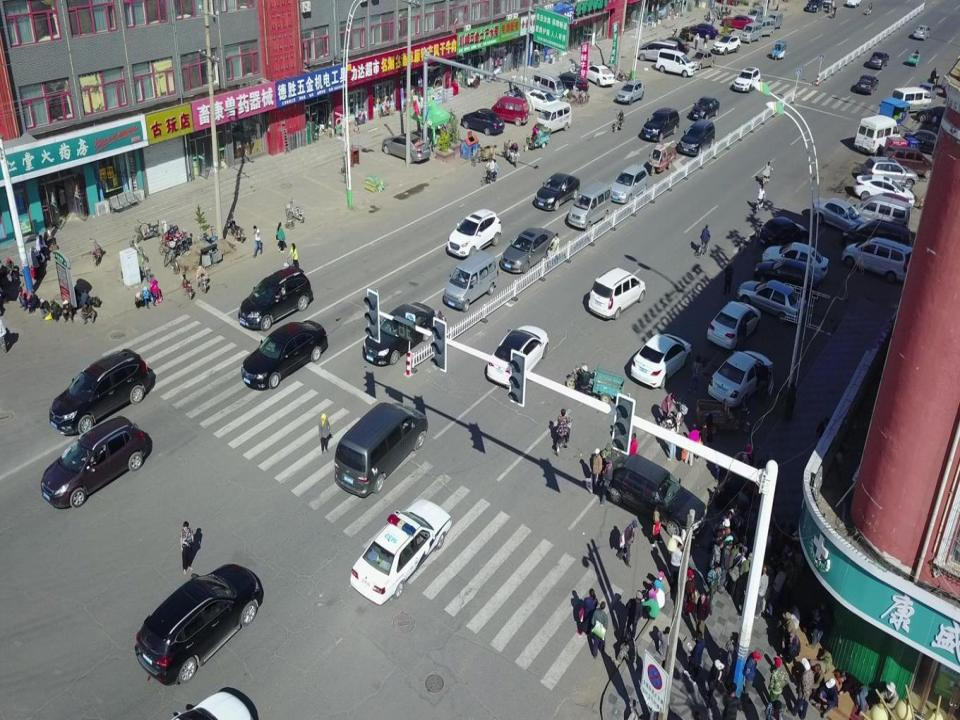car: (133, 561, 265, 688), (348, 496, 452, 607), (39, 413, 154, 511), (48, 347, 157, 436), (334, 400, 429, 496), (604, 451, 707, 538), (241, 319, 329, 393), (236, 266, 315, 332), (361, 300, 437, 367), (485, 322, 550, 389), (707, 350, 774, 410), (628, 332, 693, 391), (587, 264, 647, 320), (840, 236, 912, 282), (736, 279, 807, 321), (843, 218, 913, 259), (500, 226, 556, 276), (446, 207, 502, 257), (704, 300, 761, 348), (810, 195, 873, 237), (762, 240, 828, 278), (752, 257, 814, 293), (855, 173, 915, 210), (859, 155, 919, 190), (532, 170, 581, 212), (854, 194, 911, 230), (853, 115, 901, 153), (758, 214, 813, 245), (380, 132, 430, 164), (884, 144, 932, 177), (610, 163, 648, 204), (459, 106, 505, 138), (641, 106, 681, 142), (678, 120, 715, 157), (654, 46, 694, 77), (536, 100, 571, 134), (892, 83, 932, 111), (529, 71, 565, 98), (636, 39, 678, 62), (524, 87, 563, 111), (905, 127, 936, 156), (583, 63, 616, 87), (689, 95, 720, 120), (553, 71, 589, 92), (616, 78, 645, 104), (732, 66, 760, 91), (711, 32, 741, 55), (681, 23, 720, 40), (720, 13, 755, 29), (740, 20, 762, 42), (690, 50, 715, 69), (855, 74, 877, 95), (868, 50, 890, 70), (666, 36, 688, 54), (756, 17, 776, 36), (768, 11, 784, 30), (804, 0, 824, 14), (746, 5, 762, 22), (914, 24, 931, 40)
van: (441, 250, 499, 314), (567, 180, 613, 229), (490, 95, 530, 128)
